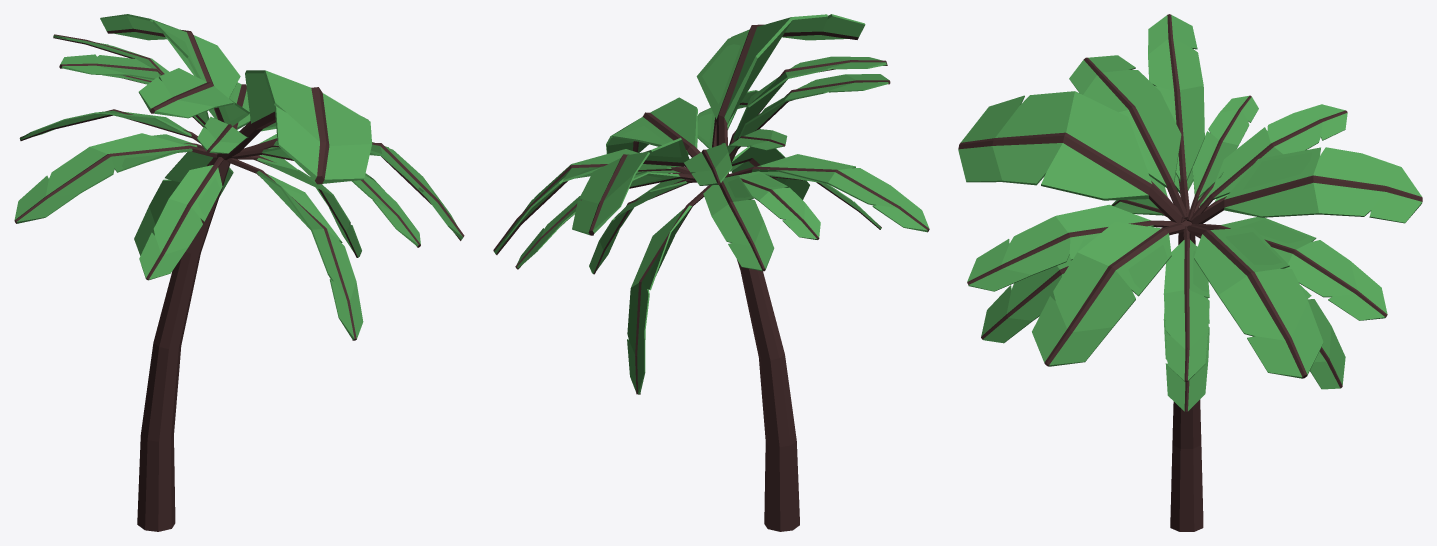
File: PalmTree1.fbx
The picture shows the model from 3 angles, left to right: view 1: azimuth 30°, elevation 25°; view 2: azimuth 150°, elevation 25°; view 3: azimuth 270°, elevation 25°; orthographic projection. The views are drawn at different scales.
Parts seen in each view (by area): view 1: Palm Tree; view 2: Palm Tree; view 3: Palm Tree.
Part boxes in pixels (x1,y1,x2,y2): Palm Tree: [14, 14, 464, 531]; Palm Tree: [493, 14, 929, 531]; Palm Tree: [958, 14, 1422, 531].
Bounding box in the file's own units: 1525 × 1807 × 1642.
